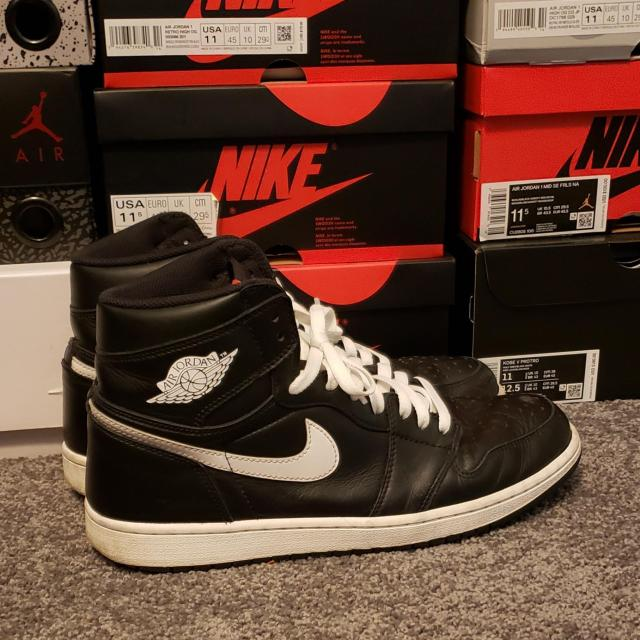shoe: (60, 209, 585, 571)
